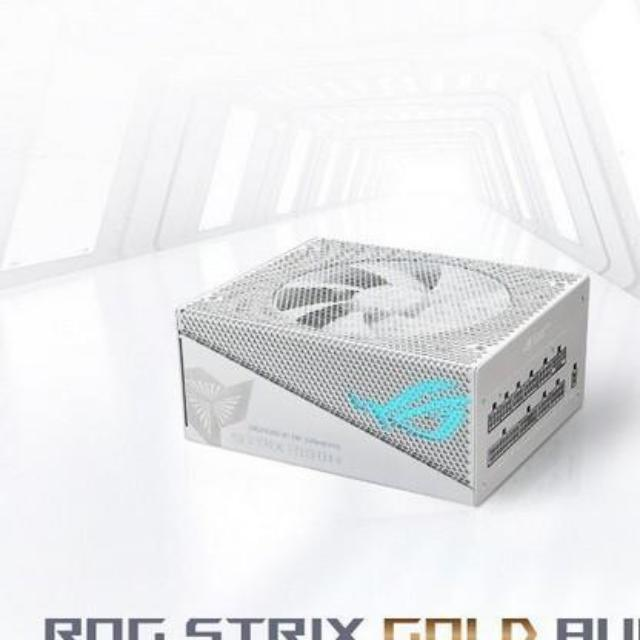PSU: (170, 220, 595, 518)
